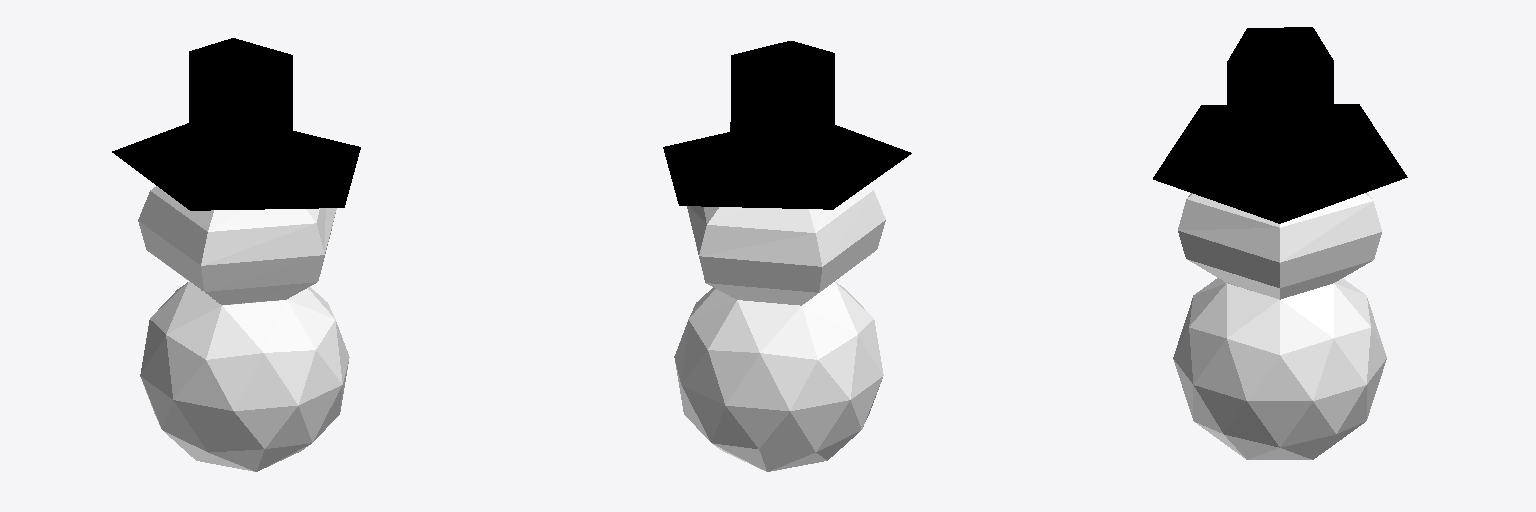
The model's file is snowman.obj.
3 views of the same model, side by side, from view 1: azimuth 30°, elevation 25°; view 2: azimuth 150°, elevation 25°; view 3: azimuth 270°, elevation 25° (orthographic).
Visible parts, largest first — view 1: Icosphere; view 2: Icosphere; view 3: Icosphere.
Boxes of the visible parts, x1=… form: Icosphere: x1=112, y1=38, x2=360, y2=471; Icosphere: x1=663, y1=41, x2=911, y2=471; Icosphere: x1=1153, y1=27, x2=1407, y2=459.
Size of the model in its own units: 2.27 by 4.22 by 2.39.